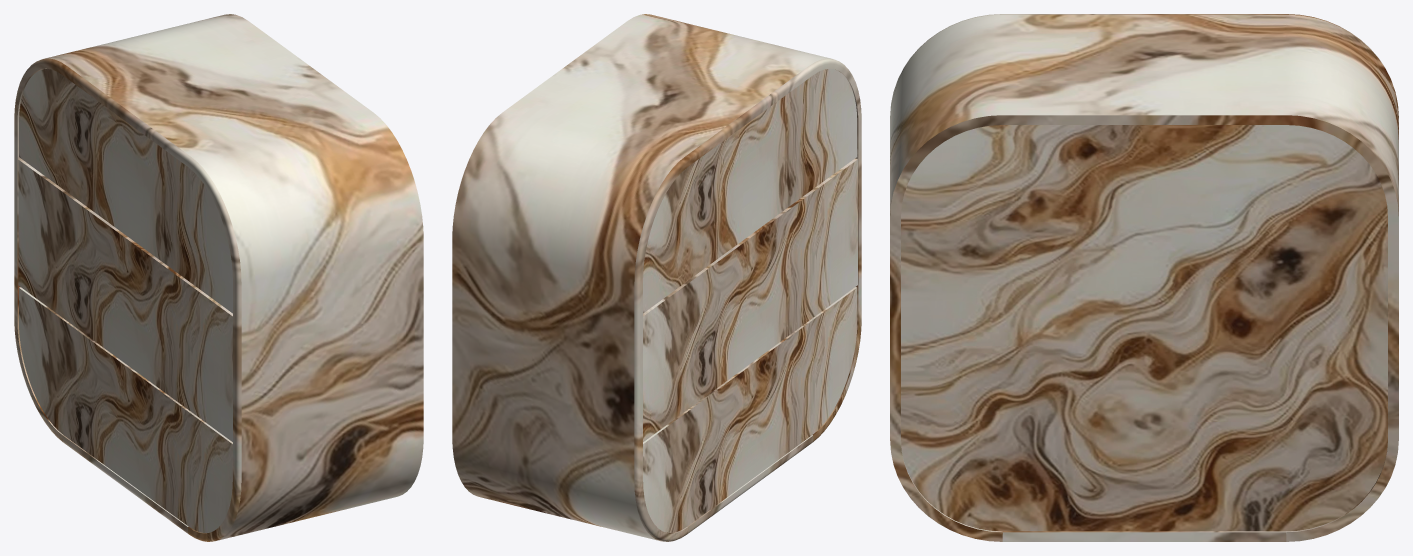
File: 1tumba11.glb
3 renders of one model, left to right at view 1: azimuth 30°, elevation 25°; view 2: azimuth 150°, elevation 25°; view 3: azimuth 270°, elevation 25°, orthographic. The views are drawn at different scales.
Parts seen in each view (by area): view 1: tumba, Object03, Object02, Object01; view 2: tumba, Object03, Object02, Object01; view 3: tumba.001, tumba.
Part boxes in pixels (bbox=[...]): tumba: bbox=[14, 14, 423, 541]; Object03: bbox=[18, 159, 232, 441]; Object02: bbox=[19, 287, 232, 532]; Object01: bbox=[19, 68, 232, 313]; tumba: bbox=[452, 14, 861, 541]; Object03: bbox=[643, 158, 857, 441]; Object02: bbox=[643, 287, 857, 532]; Object01: bbox=[643, 68, 857, 313]; tumba.001: bbox=[901, 125, 1387, 531]; tumba: bbox=[890, 14, 1398, 541].
Bounding box in the file's own units: 0.2246 × 0.435 × 0.47.
Materials: 4 (3 with a texture image).
